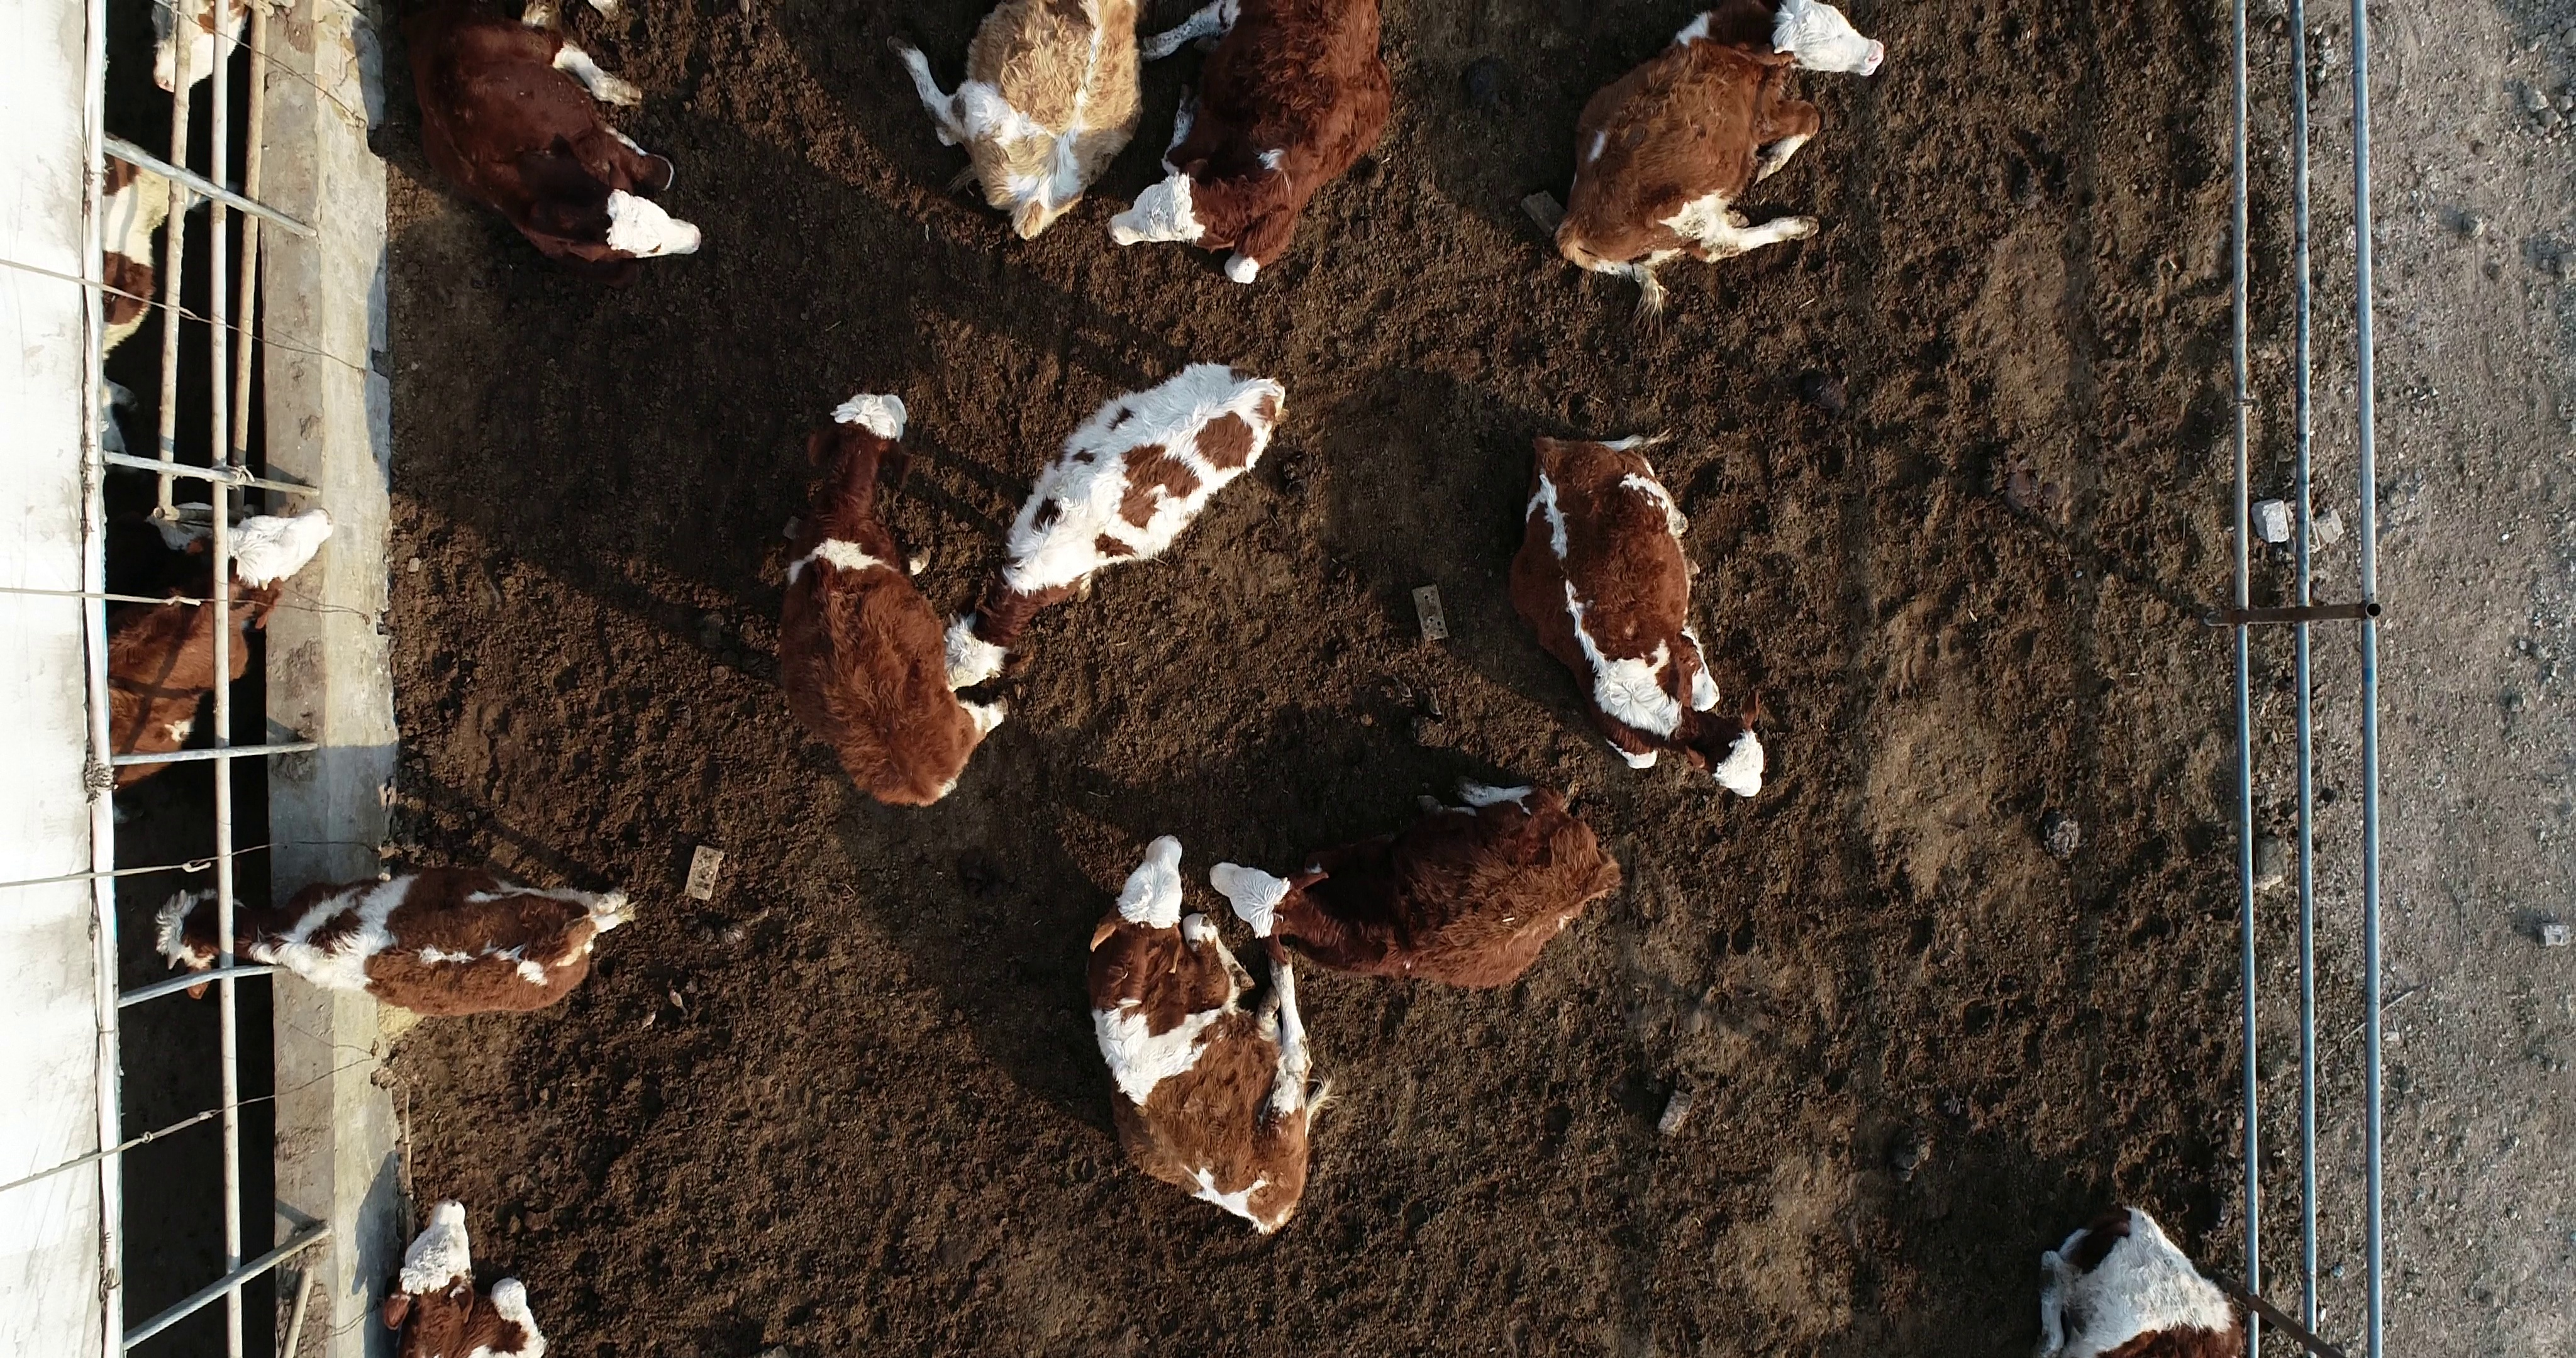cattle: (939, 358, 1290, 695), (1078, 828, 1339, 1242), (1501, 421, 1770, 806), (777, 388, 1015, 811), (1205, 770, 1629, 992), (145, 859, 647, 1019)
